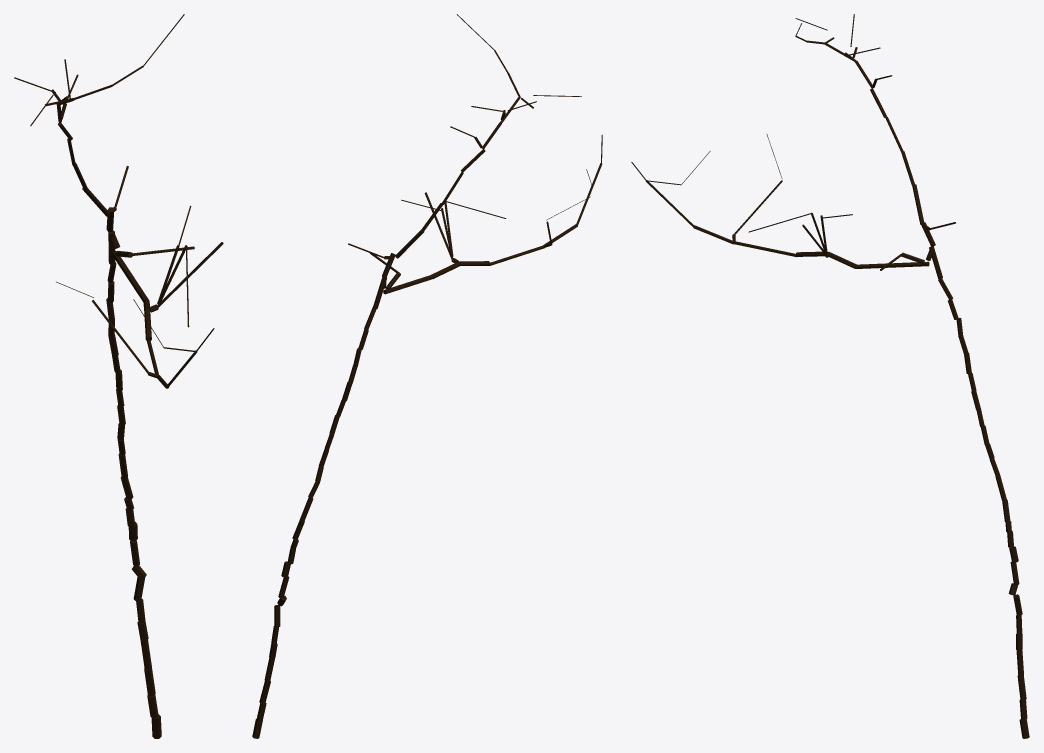
File: 2022_tree_551_no_leaf.obj
3 views of the same model, side by side, from view 1: azimuth 30°, elevation 25°; view 2: azimuth 150°, elevation 25°; view 3: azimuth 270°, elevation 25° (orthographic). The views are drawn at different scales.
Visible parts, largest first — view 1: TrunkAndBranches; view 2: TrunkAndBranches; view 3: TrunkAndBranches.
Boxes of the visible parts, <box> form: TrunkAndBranches: <box>14,14,223,738</box>; TrunkAndBranches: <box>252,14,602,738</box>; TrunkAndBranches: <box>631,14,1029,738</box>.
Bounding box in the file's own units: 2.66 × 7.86 × 4.23.
